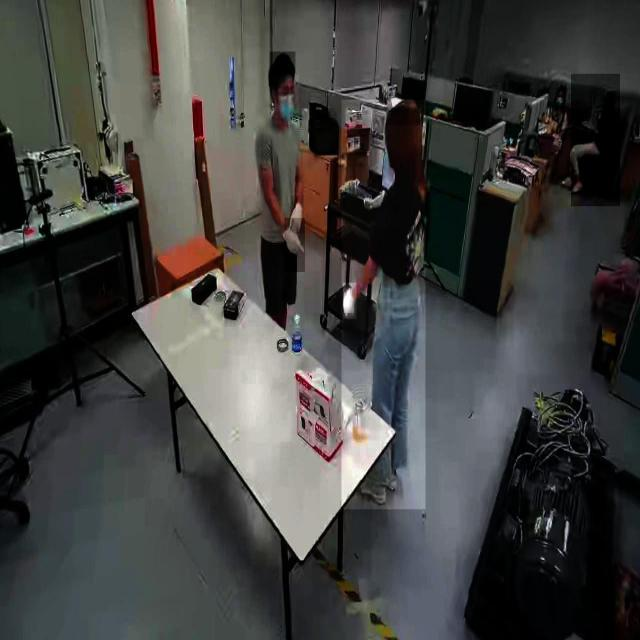face_mask: (273, 74, 299, 124)
hand_glove: (284, 218, 306, 273), (290, 196, 304, 233), (343, 283, 357, 319)
head_nohelmet: (385, 97, 421, 126), (270, 52, 296, 74), (605, 89, 616, 99), (556, 82, 567, 90)
person: (342, 100, 426, 510), (245, 48, 315, 330), (571, 74, 621, 207)
